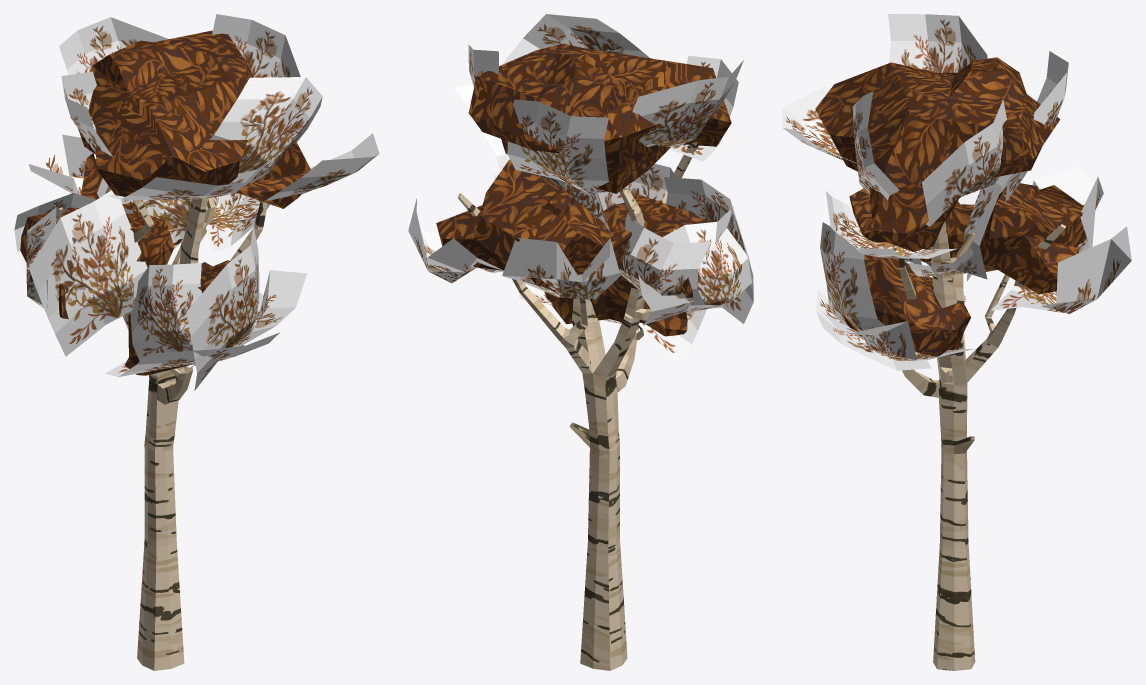
Rendered from D_Tree_tall.fbx.
3 renders of one model, left to right at view 1: azimuth 30°, elevation 25°; view 2: azimuth 150°, elevation 25°; view 3: azimuth 270°, elevation 25°, orthographic.
Visible parts, largest first — view 1: Tall_tree_leaves, Tall_tree_trunk; view 2: Tall_tree_trunk, Tall_tree_leaves; view 3: Tall_tree_trunk, Tall_tree_leaves.
Boxes of the visible parts, box(x1,y1,x2,y2) form: Tall_tree_leaves: box(14, 14, 379, 390); Tall_tree_trunk: box(20, 30, 310, 670); Tall_tree_trunk: box(436, 43, 731, 670); Tall_tree_leaves: box(408, 14, 753, 361); Tall_tree_trunk: box(815, 57, 1086, 670); Tall_tree_leaves: box(782, 14, 1131, 370).
Size of the model in its own units: 8.12 by 14.78 by 7.78.
